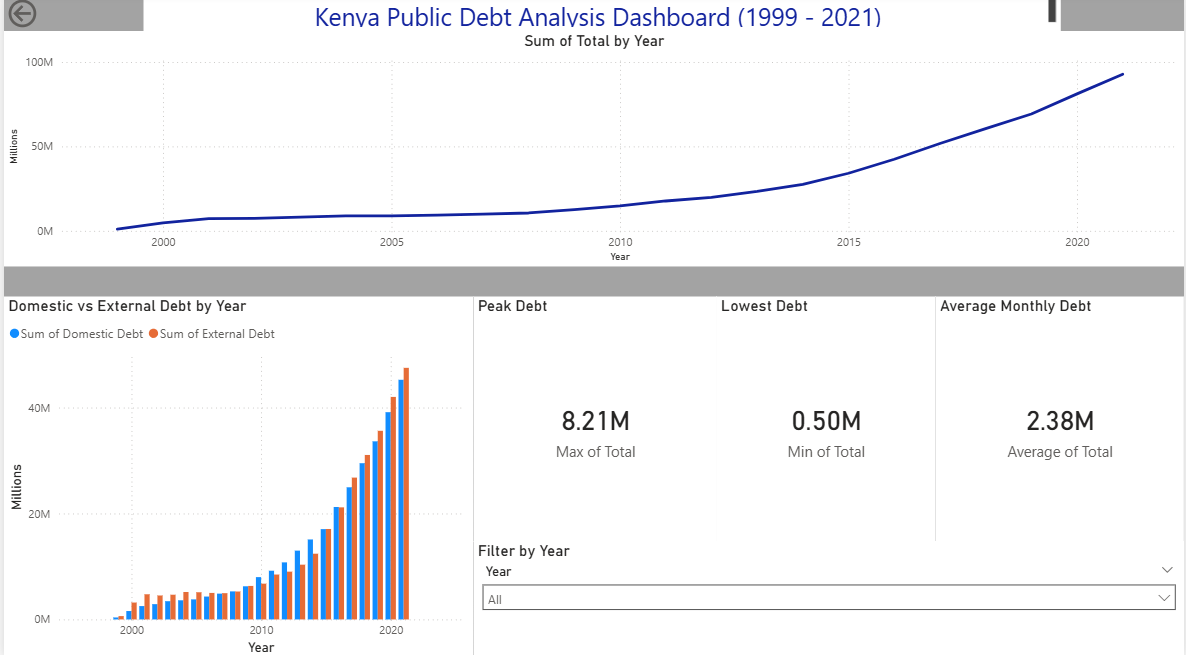

The dashboard page shown, as its layout file describes it:
{"tool":"powerbi","page":{"name":"Kenya Total Public Debt Growth (1999 - 2021)","canvas":[1280,720],"ordinal":0},"visuals":[{"type":"lineChart","fields":{"Category":["clean_public_debt.Year"],"Y":["Sum(clean_public_debt.Total)"]},"box":[0,39.3,1280.4,255.4],"z":0},{"type":"clusteredColumnChart","title":"Domestic vs External Debt by Year","fields":{"Category":["clean_public_debt.Year"],"Y":["Sum(clean_public_debt.Domestic Debt)","Sum(clean_public_debt.External Debt)"]},"box":[0,326.8,508.9,392.9],"z":1000},{"type":"actionButton","box":[0,0,100,40],"z":2000},{"type":"card","title":"Peak Debt","fields":{"Values":["Max(clean_public_debt.Total)"]},"box":[508.9,326.8,264.3,266.1],"z":3000},{"type":"card","title":"Average Monthly Debt","fields":{"Values":["Avg(clean_public_debt.Total)"]},"box":[1010.7,326.8,269.6,266.1],"z":4000},{"type":"card","title":"Lowest Debt","fields":{"Values":["Min(clean_public_debt.Total)"]},"box":[773.2,326.8,237.5,266.1],"z":5000},{"type":"slicer","title":"Filter by Year","fields":{"Values":["clean_public_debt.Year"]},"box":[508.9,592.9,771.4,126.8],"z":5001},{"type":"textbox","box":[151.8,0,994.6,39.3],"z":5002}]}

Visuals, with their boxes in screenshot pixels (x1, y1, x2, y2), scaled from the page's 1280x720 canvas onto the 1186x655 screenshot:
lineChart - clean_public_debt.Year x Sum(clean_public_debt.Total): 0, 36, 1185, 268
"Domestic vs External Debt by Year" clusteredColumnChart: 0, 297, 472, 654
actionButton: 0, 0, 93, 36
"Peak Debt" card: 472, 297, 716, 539
"Average Monthly Debt" card: 936, 297, 1185, 539
"Lowest Debt" card: 716, 297, 936, 539
"Filter by Year" slicer: 472, 539, 1185, 654
textbox: 141, 0, 1062, 36
